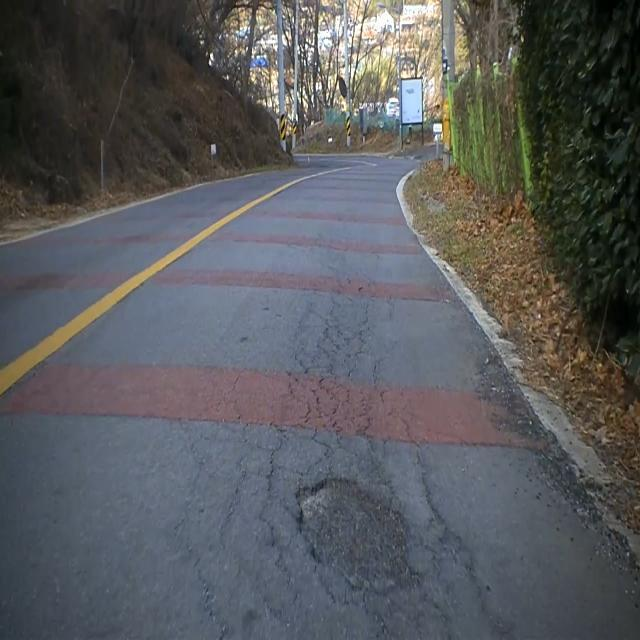pothole: (279, 462, 426, 607)
